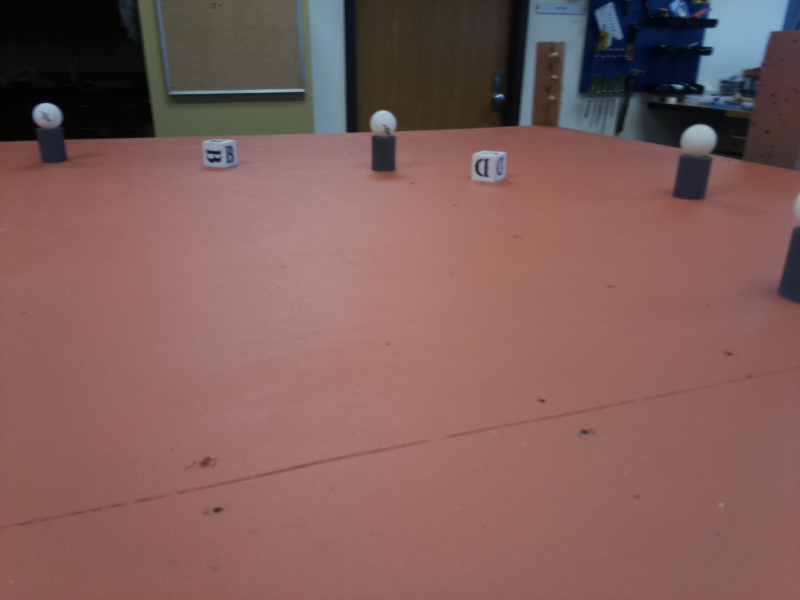blockB: (202, 138, 239, 176)
blockD: (466, 152, 513, 183)
corner: (532, 42, 564, 121)
obstacle: (675, 123, 716, 200), (32, 101, 63, 164), (372, 108, 397, 173)
